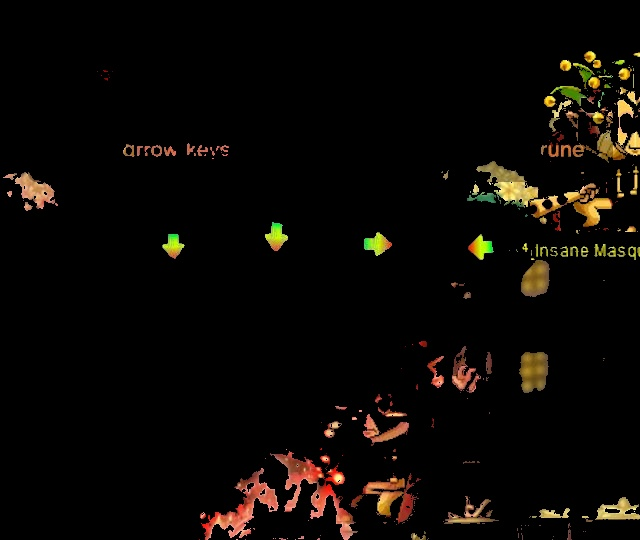down: (155, 228, 190, 265), (261, 218, 292, 259)
left: (461, 227, 501, 266)
right: (358, 228, 401, 266)
